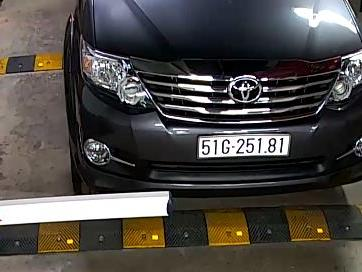number: (198, 134, 288, 157)
